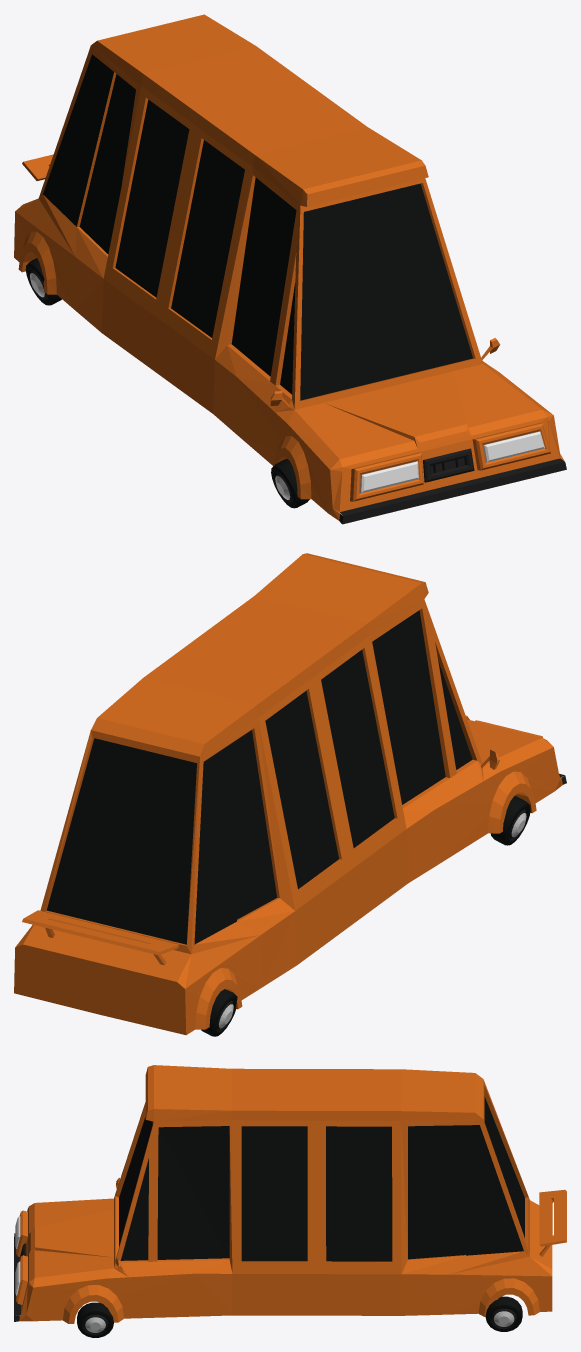
File: car_LONG.FBX
The picture shows the model from 3 angles, top to bottom: view 1: azimuth 30°, elevation 25°; view 2: azimuth 150°, elevation 25°; view 3: azimuth 270°, elevation 25°; orthographic projection. The views are drawn at different scales.
Visible parts, largest first — view 1: Box001, Cylinder031, Cylinder032; view 2: Box001, Cylinder031, Cylinder032; view 3: Box001, Cylinder030, Cylinder029.
Boxes of the visible parts, x1,y1,x2,y2 form: Box001: (14, 14, 566, 524); Cylinder031: (271, 459, 309, 508); Cylinder032: (25, 258, 61, 305); Box001: (14, 553, 566, 1035); Cylinder031: (490, 796, 530, 845); Cylinder032: (201, 989, 237, 1036); Box001: (14, 1065, 566, 1323); Cylinder030: (77, 1302, 113, 1337); Cylinder029: (485, 1296, 522, 1331).
Bounding box in the file's own units: 98.1 × 106 × 253.
